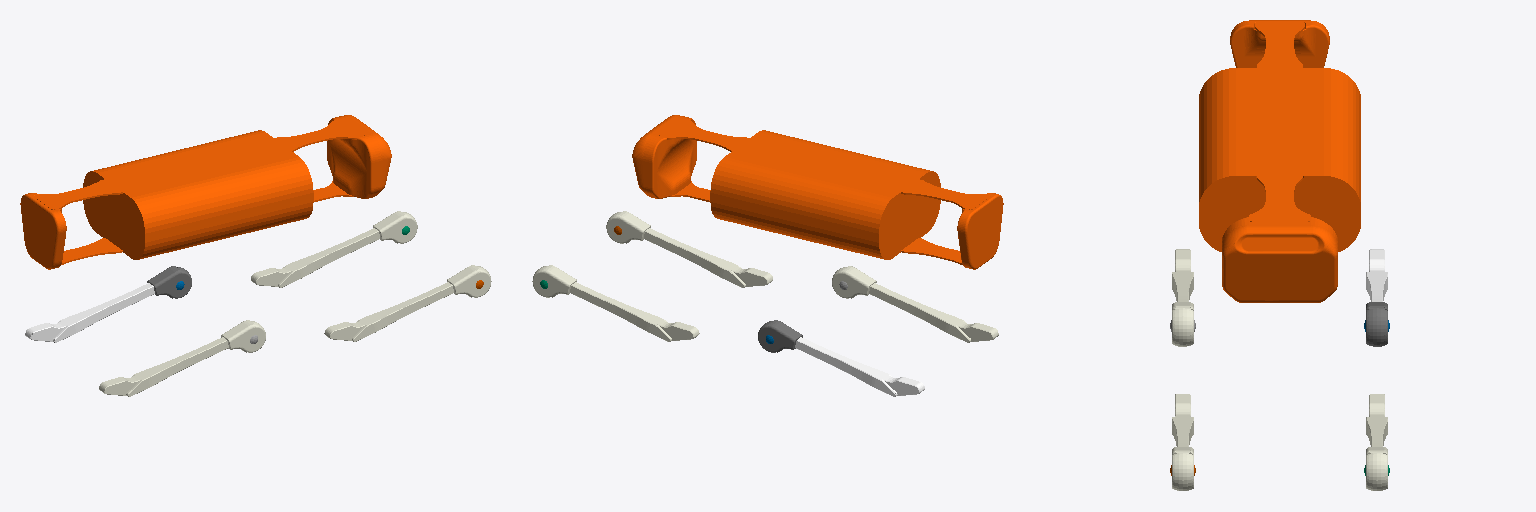
The robot description file, URDF, robot "laikago_description":
<?xml version="1.0" ?>
<!-- =================================================================================== -->
<!-- |    This document was autogenerated by xacro from robot.xacro                    | -->
<!-- |    EDITING THIS FILE BY HAND IS NOT RECOMMENDED                                 | -->
<!-- =================================================================================== -->
<robot name="laikago_description" xmlns:xacro="http://www.ros.org/wiki/xacro">
  <material name="black">
    <color rgba="0.0 0.0 0.0 1.0"/>
  </material>
  <material name="blue">
    <color rgba="0.0 0.0 0.8 1.0"/>
  </material>
  <material name="green">
    <color rgba="0.0 0.8 0.0 1.0"/>
  </material>
  <material name="grey">
    <color rgba="0.2 0.2 0.2 1.0"/>
  </material>
  <material name="silver">
    <color rgba="0.913725490196 0.913725490196 0.847058823529 1.0"/>
  </material>
  <material name="orange">
    <color rgba="1.0 0.423529411765 0.0392156862745 1.0"/>
  </material>
  <material name="brown">
    <color rgba="0.870588235294 0.811764705882 0.764705882353 1.0"/>
  </material>
  <material name="red">
    <color rgba="0.8 0.0 0.0 1.0"/>
  </material>
  <material name="white">
    <color rgba="1.0 1.0 1.0 1.0"/>
  </material>

  <link name="trunk">
    <visual>
      <origin rpy="0 0 0" xyz="0 0 0"/>
      <geometry>
        <mesh filename="../meshes/trunk.dae" scale="1 1 1"/>
      </geometry>
      <material name="orange"/>
    </visual>
    <collision>
      <origin rpy="0 0 0" xyz="0 0 0.01675"/>
      <geometry>
        <box size="0.5616 0.172 0.1875"/>
      </geometry>
    </collision>
    <inertial>
      <origin rpy="0 0 0" xyz="0.002284 -4.1e-05 0.025165"/>
      <mass value="13.733"/>
      <inertia ixx="0.073348887" ixy="0.00030338" ixz="0.001918218" iyy="0.250684593" iyz="-7.5402e-05" izz="0.254469458"/>
    </inertial>
  </link>
  <joint name="FR_hip_joint" type="revolute">
    <origin rpy="0 0 0" xyz="0.21935 -0.0875 0"/>
    <parent link="trunk"/>
    <child link="FR_hip"/>
    <axis xyz="1 0 0"/>
    <dynamics damping="0" friction="0"/>
    <limit effort="20" lower="-1.0471975512" upper="0.872664625997" velocity="52.4"/>
  </joint>
  <link name="FR_hip">
    <visual>
      <origin rpy="3.14159265359 0 0" xyz="0 0 0"/>
      <geometry>
        <mesh filename="../meshes/hip.dae" scale="1 1 1"/>
      </geometry>
      <material name="grey"/>
    </visual>
    <collision>
      <origin rpy="1.57079632679 0 0" xyz="0 0.021 0"/>
      <geometry>
        <cylinder length="0.08" radius="0.041"/>
      </geometry>
    </collision>
    <inertial>
      <origin rpy="0 0 0" xyz="-0.001568 0.008134 0.000864"/>
      <mass value="1.096"/>
      <inertia ixx="0.000822113" ixy="4.982e-06" ixz="-3.672e-05" iyy="0.000983196" iyz="-2.811e-06" izz="0.000864753"/>
    </inertial>
  </link>
  <joint name="FR_hip_fixed" type="fixed">
    <origin rpy="0 0 0" xyz="0 -0.059 0"/>
    <parent link="FR_hip"/>
    <child link="FR_thigh_shoulder"/>
  </joint>
  <!-- this link is only for collision -->
  <link name="FR_thigh_shoulder">
    <collision>
      <origin rpy="1.57079632679 0 0" xyz="0 0 0"/>
      <geometry>
        <cylinder length="0.08" radius="0.044"/>
      </geometry>
    </collision>
  </link>
  <joint name="FR_thigh_joint" type="revolute">
    <origin rpy="0 0 0" xyz="0 -0.037 0"/>
    <parent link="FR_hip"/>
    <child link="FR_thigh"/>
    <axis xyz="0 1 0"/>
    <dynamics damping="0" friction="0"/>
    <limit effort="55" lower="-0.523598775598" upper="3.92699081699" velocity="28.6"/>
  </joint>
  <link name="FR_thigh">
    <visual>
      <origin rpy="0 0 0" xyz="0 0 0"/>
      <geometry>
        <mesh filename="../meshes/thigh_mirror.dae" scale="1 1 1"/>
      </geometry>
      <material name="grey"/>
    </visual>
    <collision>
      <origin rpy="0 1.57079632679 0" xyz="0 0 -0.125"/>
      <geometry>
        <box size="0.25 0.034 0.043"/>
      </geometry>
    </collision>
    <inertial>
      <origin rpy="0 0 0" xyz="-0.000482 -0.02001 -0.031996"/>
      <mass value="1.528"/>
      <inertia ixx="0.00991611" ixy="-1.0388e-05" ixz="0.000250428" iyy="0.009280083" iyz="8.511e-05" izz="0.00178256"/>
    </inertial>
  </link>
  <joint name="FR_calf_joint" type="revolute">
    <origin rpy="0 0 0" xyz="0 0 -0.25"/>
    <parent link="FR_thigh"/>
    <child link="FR_calf"/>
    <axis xyz="0 1 0"/>
    <dynamics damping="0" friction="0"/>
    <limit effort="55" lower="-2.77507351067" upper="-0.610865238198" velocity="28.6"/>
  </joint>
  <link name="FR_calf">
    <visual>
      <origin rpy="0 0 0" xyz="0 0 0"/>
      <geometry>
        <mesh filename="../meshes/calf.dae" scale="1 1 1"/>
      </geometry>
      <material name="silver"/>
    </visual>
    <collision>
      <origin rpy="0 1.57079632679 0" xyz="0 0 -0.125"/>
      <geometry>
        <box size="0.25 0.016 0.016"/>
      </geometry>
    </collision>
    <inertial>
      <origin rpy="0 0 0" xyz="-0.002196 -0.000381 -0.12338"/>
      <mass value="0.241"/>
      <inertia ixx="0.006181961" ixy="2.37e-07" ixz="-2.985e-06" iyy="0.006196546" iyz="5.138e-06" izz="3.4774e-05"/>
    </inertial>
  </link>
  <joint name="FR_foot_fixed" type="fixed">
    <origin rpy="0 0 0" xyz="0 0 -0.25"/>
    <parent link="FR_calf"/>
    <child link="FR_foot"/>
  </joint>
  <link name="FR_foot">
    <visual>
      <origin rpy="0 0 0" xyz="0 0 0"/>
      <geometry>
        <sphere radius="0.0165"/>
      </geometry>
    </visual>
    <collision>
      <origin rpy="0 0 0" xyz="0 0 0"/>
      <geometry>
        <sphere radius="0.0265"/>
      </geometry>
    </collision>
    <inertial>
      <mass value="0.06"/>
      <inertia ixx="1.6854e-05" ixy="0.0" ixz="0.0" iyy="1.6854e-05" iyz="0.0" izz="1.6854e-05"/>
    </inertial>
  </link>

  <joint name="FL_hip_joint" type="revolute">
    <origin rpy="0 0 0" xyz="0.21935 0.0875 0"/>
    <parent link="trunk"/>
    <child link="FL_hip"/>
    <axis xyz="1 0 0"/>
    <dynamics damping="0" friction="0"/>
    <limit effort="20" lower="-0.872664625997" upper="1.0471975512" velocity="52.4"/>
  </joint>
  <link name="FL_hip">
    <visual>
      <origin rpy="0 0 0" xyz="0 0 0"/>
      <geometry>
        <mesh filename="../meshes/hip.dae" scale="1 1 1"/>
      </geometry>
      <material name="grey"/>
    </visual>
    <collision>
      <origin rpy="1.57079632679 0 0" xyz="0 -0.021 0"/>
      <geometry>
        <cylinder length="0.08" radius="0.041"/>
      </geometry>
    </collision>
    <inertial>
      <origin rpy="0 0 0" xyz="-0.001568 -0.008134 0.000864"/>
      <mass value="1.096"/>
      <inertia ixx="0.000822113" ixy="-4.982e-06" ixz="-3.672e-05" iyy="0.000983196" iyz="2.811e-06" izz="0.000864753"/>
    </inertial>
  </link>
  <joint name="FL_hip_fixed" type="fixed">
    <origin rpy="0 0 0" xyz="0 0.059 0"/>
    <parent link="FL_hip"/>
    <child link="FL_thigh_shoulder"/>
  </joint>
  <!-- this link is only for collision -->
  <link name="FL_thigh_shoulder">
    <collision>
      <origin rpy="1.57079632679 0 0" xyz="0 0 0"/>
      <geometry>
        <cylinder length="0.08" radius="0.044"/>
      </geometry>
    </collision>
  </link>
  <joint name="FL_thigh_joint" type="revolute">
    <origin rpy="0 0 0" xyz="0 0.037 0"/>
    <parent link="FL_hip"/>
    <child link="FL_thigh"/>
    <axis xyz="0 1 0"/>
    <dynamics damping="0" friction="0"/>
    <limit effort="55" lower="-0.523598775598" upper="3.92699081699" velocity="28.6"/>
  </joint>
  <link name="FL_thigh">
    <visual>
      <origin rpy="0 0 0" xyz="0 0 0"/>
      <geometry>
        <mesh filename="../meshes/thigh.dae" scale="1 1 1"/>
      </geometry>
      <material name="grey"/>
    </visual>
    <collision>
      <origin rpy="0 1.57079632679 0" xyz="0 0 -0.125"/>
      <geometry>
        <box size="0.25 0.034 0.043"/>
      </geometry>
    </collision>
    <inertial>
      <origin rpy="0 0 0" xyz="-0.000482 0.02001 -0.031996"/>
      <mass value="1.528"/>
      <inertia ixx="0.00991611" ixy="1.0388e-05" ixz="0.000250428" iyy="0.009280083" iyz="-8.511e-05" izz="0.00178256"/>
    </inertial>
  </link>
  <joint name="FL_calf_joint" type="revolute">
    <origin rpy="0 0 0" xyz="0 0 -0.25"/>
    <parent link="FL_thigh"/>
    <child link="FL_calf"/>
    <axis xyz="0 1 0"/>
    <dynamics damping="0" friction="0"/>
    <limit effort="55" lower="-2.77507351067" upper="-0.610865238198" velocity="28.6"/>
  </joint>
  <link name="FL_calf">
    <visual>
      <origin rpy="0 0 0" xyz="0 0 0"/>
      <geometry>
        <mesh filename="../meshes/calf.dae" scale="1 1 1"/>
      </geometry>
      <material name="silver"/>
    </visual>
    <collision>
      <origin rpy="0 1.57079632679 0" xyz="0 0 -0.125"/>
      <geometry>
        <box size="0.25 0.016 0.016"/>
      </geometry>
    </collision>
    <inertial>
      <origin rpy="0 0 0" xyz="-0.002196 -0.000381 -0.12338"/>
      <mass value="0.241"/>
      <inertia ixx="0.006181961" ixy="2.37e-07" ixz="-2.985e-06" iyy="0.006196546" iyz="5.138e-06" izz="3.4774e-05"/>
    </inertial>
  </link>
  <joint name="FL_foot_fixed" type="fixed">
    <origin rpy="0 0 0" xyz="0 0 -0.25"/>
    <parent link="FL_calf"/>
    <child link="FL_foot"/>
  </joint>
  <link name="FL_foot">
    <visual>
      <origin rpy="0 0 0" xyz="0 0 0"/>
      <geometry>
        <sphere radius="0.0165"/>
      </geometry>
    </visual>
    <collision>
      <origin rpy="0 0 0" xyz="0 0 0"/>
      <geometry>
        <sphere radius="0.0265"/>
      </geometry>
    </collision>
    <inertial>
      <mass value="0.06"/>
      <inertia ixx="1.6854e-05" ixy="0.0" ixz="0.0" iyy="1.6854e-05" iyz="0.0" izz="1.6854e-05"/>
    </inertial>
  </link>
  
  <joint name="RR_hip_joint" type="revolute">
    <origin rpy="0 0 0" xyz="-0.21935 -0.0875 0"/>
    <parent link="trunk"/>
    <child link="RR_hip"/>
    <axis xyz="1 0 0"/>
    <dynamics damping="0" friction="0"/>
    <limit effort="20" lower="-1.0471975512" upper="0.872664625997" velocity="52.4"/>
  </joint>
  <link name="RR_hip">
    <visual>
      <origin rpy="3.14159265359 3.14159265359 0" xyz="0 0 0"/>
      <geometry>
        <mesh filename="../meshes/hip.dae" scale="1 1 1"/>
      </geometry>
      <material name="grey"/>
    </visual>
    <collision>
      <origin rpy="1.57079632679 0 0" xyz="0 0.021 0"/>
      <geometry>
        <cylinder length="0.08" radius="0.041"/>
      </geometry>
    </collision>
    <inertial>
      <origin rpy="0 0 0" xyz="0.001568 0.008134 0.000864"/>
      <mass value="1.096"/>
      <inertia ixx="0.000822113" ixy="-4.982e-06" ixz="3.672e-05" iyy="0.000983196" iyz="-2.811e-06" izz="0.000864753"/>
    </inertial>
  </link>
  <joint name="RR_hip_fixed" type="fixed">
    <origin rpy="0 0 0" xyz="0 -0.059 0"/>
    <parent link="RR_hip"/>
    <child link="RR_thigh_shoulder"/>
  </joint>
  <!-- this link is only for collision -->
  <link name="RR_thigh_shoulder">
    <collision>
      <origin rpy="1.57079632679 0 0" xyz="0 0 0"/>
      <geometry>
        <cylinder length="0.08" radius="0.044"/>
      </geometry>
    </collision>
  </link>
  <joint name="RR_thigh_joint" type="revolute">
    <origin rpy="0 0 0" xyz="0 -0.037 0"/>
    <parent link="RR_hip"/>
    <child link="RR_thigh"/>
    <axis xyz="0 1 0"/>
    <dynamics damping="0" friction="0"/>
    <limit effort="55" lower="-0.523598775598" upper="3.92699081699" velocity="28.6"/>
  </joint>
  <link name="RR_thigh">
    <visual>
      <origin rpy="0 0 0" xyz="0 0 0"/>
      <geometry>
        <mesh filename="../meshes/thigh_mirror.dae" scale="1 1 1"/>
      </geometry>
      <material name="grey"/>
    </visual>
    <collision>
      <origin rpy="0 1.57079632679 0" xyz="0 0 -0.125"/>
      <geometry>
        <box size="0.25 0.034 0.043"/>
      </geometry>
    </collision>
    <inertial>
      <origin rpy="0 0 0" xyz="-0.000482 -0.02001 -0.031996"/>
      <mass value="1.528"/>
      <inertia ixx="0.00991611" ixy="-1.0388e-05" ixz="0.000250428" iyy="0.009280083" iyz="8.511e-05" izz="0.00178256"/>
    </inertial>
  </link>
  <joint name="RR_calf_joint" type="revolute">
    <origin rpy="0 0 0" xyz="0 0 -0.25"/>
    <parent link="RR_thigh"/>
    <child link="RR_calf"/>
    <axis xyz="0 1 0"/>
    <dynamics damping="0" friction="0"/>
    <limit effort="55" lower="-2.77507351067" upper="-0.610865238198" velocity="28.6"/>
  </joint>
  <link name="RR_calf">
    <visual>
      <origin rpy="0 0 0" xyz="0 0 0"/>
      <geometry>
        <mesh filename="../meshes/calf.dae" scale="1 1 1"/>
      </geometry>
      <material name="silver"/>
    </visual>
    <collision>
      <origin rpy="0 1.57079632679 0" xyz="0 0 -0.125"/>
      <geometry>
        <box size="0.25 0.016 0.016"/>
      </geometry>
    </collision>
    <inertial>
      <origin rpy="0 0 0" xyz="-0.002196 -0.000381 -0.12338"/>
      <mass value="0.241"/>
      <inertia ixx="0.006181961" ixy="2.37e-07" ixz="-2.985e-06" iyy="0.006196546" iyz="5.138e-06" izz="3.4774e-05"/>
    </inertial>
  </link>
  <joint name="RR_foot_fixed" type="fixed">
    <origin rpy="0 0 0" xyz="0 0 -0.25"/>
    <parent link="RR_calf"/>
    <child link="RR_foot"/>
  </joint>
  <link name="RR_foot">
    <visual>
      <origin rpy="0 0 0" xyz="0 0 0"/>
      <geometry>
        <sphere radius="0.0165"/>
      </geometry>
    </visual>
    <collision>
      <origin rpy="0 0 0" xyz="0 0 0"/>
      <geometry>
        <sphere radius="0.0265"/>
      </geometry>
    </collision>
    <inertial>
      <mass value="0.06"/>
      <inertia ixx="1.6854e-05" ixy="0.0" ixz="0.0" iyy="1.6854e-05" iyz="0.0" izz="1.6854e-05"/>
    </inertial>
  </link>
  
  <joint name="RL_hip_joint" type="revolute">
    <origin rpy="0 0 0" xyz="-0.21935 0.0875 0"/>
    <parent link="trunk"/>
    <child link="RL_hip"/>
    <axis xyz="1 0 0"/>
    <dynamics damping="0" friction="0"/>
    <limit effort="20" lower="-0.872664625997" upper="1.0471975512" velocity="52.4"/>
  </joint>
  <link name="RL_hip">
    <visual>
      <origin rpy="0 3.14159265359 0" xyz="0 0 0"/>
      <geometry>
        <mesh filename="../meshes/hip.dae" scale="1 1 1"/>
      </geometry>
      <material name="grey"/>
    </visual>
    <collision>
      <origin rpy="1.57079632679 0 0" xyz="0 -0.021 0"/>
      <geometry>
        <cylinder length="0.08" radius="0.041"/>
      </geometry>
    </collision>
    <inertial>
      <origin rpy="0 0 0" xyz="0.001568 -0.008134 0.000864"/>
      <mass value="1.096"/>
      <inertia ixx="0.000822113" ixy="4.982e-06" ixz="3.672e-05" iyy="0.000983196" iyz="2.811e-06" izz="0.000864753"/>
    </inertial>
  </link>
  <joint name="RL_hip_fixed" type="fixed">
    <origin rpy="0 0 0" xyz="0 0.059 0"/>
    <parent link="RL_hip"/>
    <child link="RL_thigh_shoulder"/>
  </joint>
  <!-- this link is only for collision -->
  <link name="RL_thigh_shoulder">
    <collision>
      <origin rpy="1.57079632679 0 0" xyz="0 0 0"/>
      <geometry>
        <cylinder length="0.08" radius="0.044"/>
      </geometry>
    </collision>
  </link>
  <joint name="RL_thigh_joint" type="revolute">
    <origin rpy="0 0 0" xyz="0 0.037 0"/>
    <parent link="RL_hip"/>
    <child link="RL_thigh"/>
    <axis xyz="0 1 0"/>
    <dynamics damping="0" friction="0"/>
    <limit effort="55" lower="-0.523598775598" upper="3.92699081699" velocity="28.6"/>
  </joint>
  <link name="RL_thigh">
    <visual>
      <origin rpy="0 0 0" xyz="0 0 0"/>
      <geometry>
        <mesh filename="../meshes/thigh.dae" scale="1 1 1"/>
      </geometry>
    </visual>
    <collision>
      <origin rpy="0 1.57079632679 0" xyz="0 0 -0.125"/>
      <geometry>
        <box size="0.25 0.034 0.043"/>
      </geometry>
    </collision>
    <inertial>
      <origin rpy="0 0 0" xyz="-0.000482 0.02001 -0.031996"/>
      <mass value="1.528"/>
      <inertia ixx="0.00991611" ixy="1.0388e-05" ixz="0.000250428" iyy="0.009280083" iyz="-8.511e-05" izz="0.00178256"/>
    </inertial>
  </link>
  <joint name="RL_calf_joint" type="revolute">
    <origin rpy="0 0 0" xyz="0 0 -0.25"/>
    <parent link="RL_thigh"/>
    <child link="RL_calf"/>
    <axis xyz="0 1 0"/>
    <dynamics damping="0" friction="0"/>
    <limit effort="55" lower="-2.77507351067" upper="-0.610865238198" velocity="28.6"/>
  </joint>
  <link name="RL_calf">
    <visual>
      <origin rpy="0 0 0" xyz="0 0 0"/>
      <geometry>
        <mesh filename="../meshes/calf.dae" scale="1 1 1"/>
      </geometry>
    </visual>
    <collision>
      <origin rpy="0 1.57079632679 0" xyz="0 0 -0.125"/>
      <geometry>
        <box size="0.25 0.016 0.016"/>
      </geometry>
    </collision>
    <inertial>
      <origin rpy="0 0 0" xyz="-0.002196 -0.000381 -0.12338"/>
      <mass value="0.241"/>
      <inertia ixx="0.006181961" ixy="2.37e-07" ixz="-2.985e-06" iyy="0.006196546" iyz="5.138e-06" izz="3.4774e-05"/>
    </inertial>
  </link>
  <joint name="RL_foot_fixed" type="fixed">
    <origin rpy="0 0 0" xyz="0 0 -0.25"/>
    <parent link="RL_calf"/>
    <child link="RL_foot"/>
  </joint>
  <link name="RL_foot">
    <visual>
      <origin rpy="0 0 0" xyz="0 0 0"/>
      <geometry>
        <sphere radius="0.0165"/>
      </geometry>
    </visual>
    <collision>
      <origin rpy="0 0 0" xyz="0 0 0"/>
      <geometry>
        <sphere radius="0.0265"/>
      </geometry>
    </collision>
    <inertial>
      <mass value="0.06"/>
      <inertia ixx="1.6854e-05" ixy="0.0" ixz="0.0" iyy="1.6854e-05" iyz="0.0" izz="1.6854e-05"/>
    </inertial>
  </link>
</robot>


--- What the picture shows (computed from the rendered views, not written in the file) ---
The picture shows the robot from 3 angles, left to right: view 1: azimuth 30°, elevation 25°; view 2: azimuth 150°, elevation 25°; view 3: azimuth 270°, elevation 25°; orthographic projection.
Model laikago_description with 21 links and 20 joints (12 revolute, 8 fixed), rooted at trunk, posed joints at zero except 4 at the middle of their limits (FR_calf_joint = -1.69, FL_calf_joint = -1.69, RR_calf_joint = -1.69, RL_calf_joint = -1.69).
Visible links, largest first — view 1: trunk, RR_calf, RL_calf, FR_calf, FL_calf; view 2: trunk, RR_calf, RL_calf, FR_calf, FL_calf; view 3: trunk, RR_calf, RL_calf, FR_calf, FL_calf.
Boxes of the visible links, x1=… form: trunk: x1=20, y1=115, x2=391, y2=269; RR_calf: x1=99, y1=320, x2=265, y2=396; RL_calf: x1=25, y1=266, x2=191, y2=342; FR_calf: x1=324, y1=265, x2=491, y2=341; FL_calf: x1=251, y1=211, x2=417, y2=287; trunk: x1=632, y1=115, x2=1003, y2=269; RR_calf: x1=832, y1=266, x2=998, y2=342; RL_calf: x1=758, y1=320, x2=924, y2=396; FR_calf: x1=606, y1=211, x2=772, y2=287; FL_calf: x1=532, y1=265, x2=699, y2=341; trunk: x1=1199, y1=20, x2=1360, y2=302; RR_calf: x1=1172, y1=249, x2=1193, y2=346; RL_calf: x1=1366, y1=249, x2=1387, y2=346; FR_calf: x1=1172, y1=394, x2=1193, y2=490; FL_calf: x1=1366, y1=394, x2=1387, y2=490.
Size in the robot's own frame: 0.8054 by 0.282 by 0.326 metres.
5 mesh visuals loaded from 5 distinct referenced files (2 Collada DAE); not drawn: 8 (reference not matched to a file when rendering).